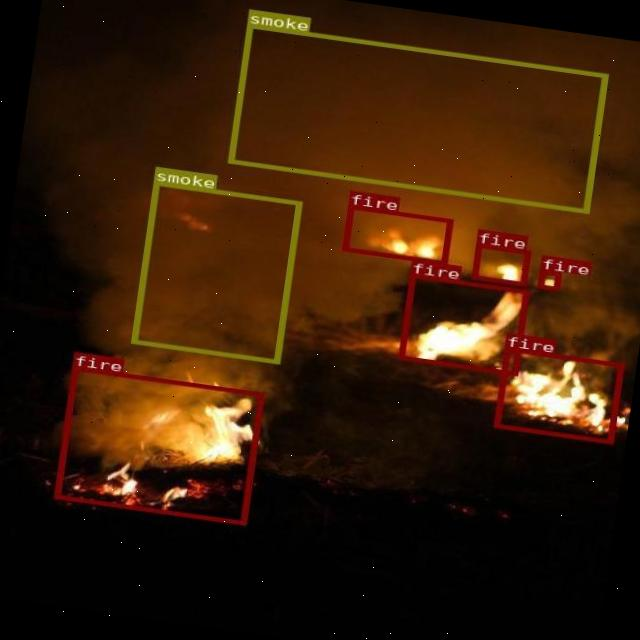fire: (54, 366, 262, 524), (398, 273, 528, 376), (493, 347, 623, 444), (341, 204, 452, 265), (472, 243, 530, 285), (537, 269, 560, 291)
smoke: (227, 23, 606, 213), (130, 182, 301, 364)
